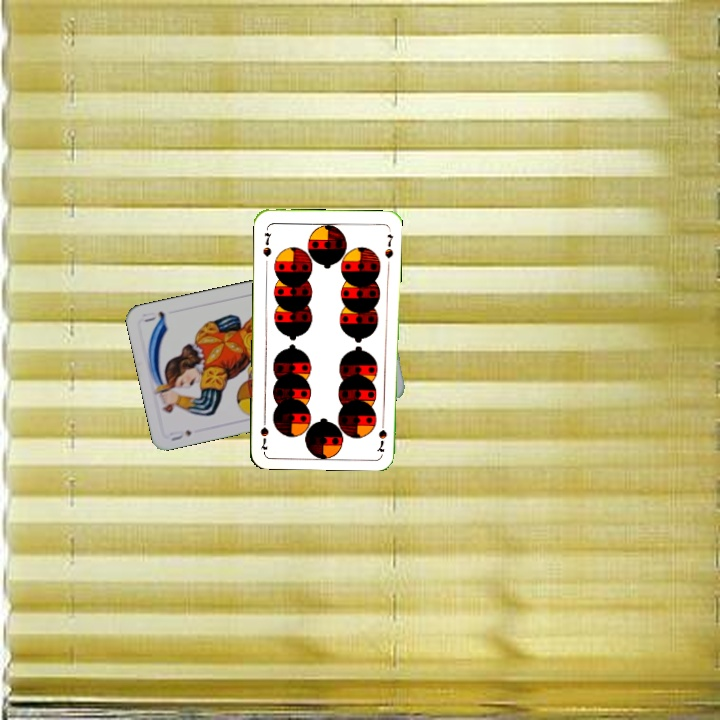S7: (374, 414, 389, 455), (259, 229, 274, 259)
SU: (165, 426, 194, 444)
